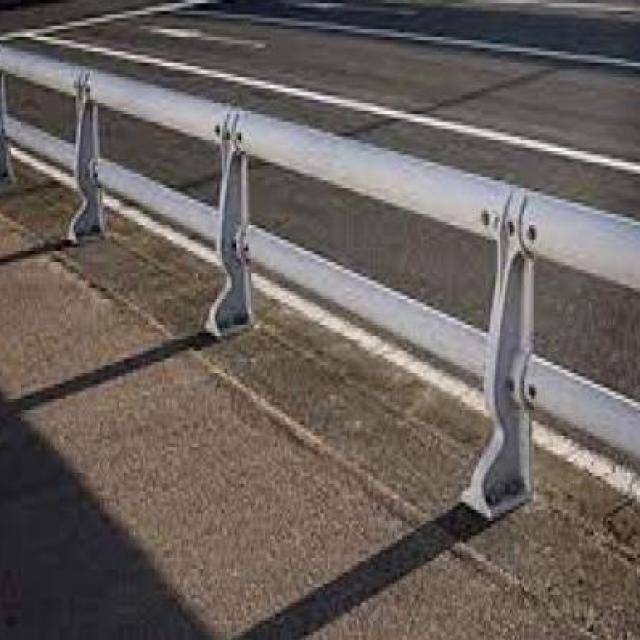Guard rail: (0, 27, 640, 542)
